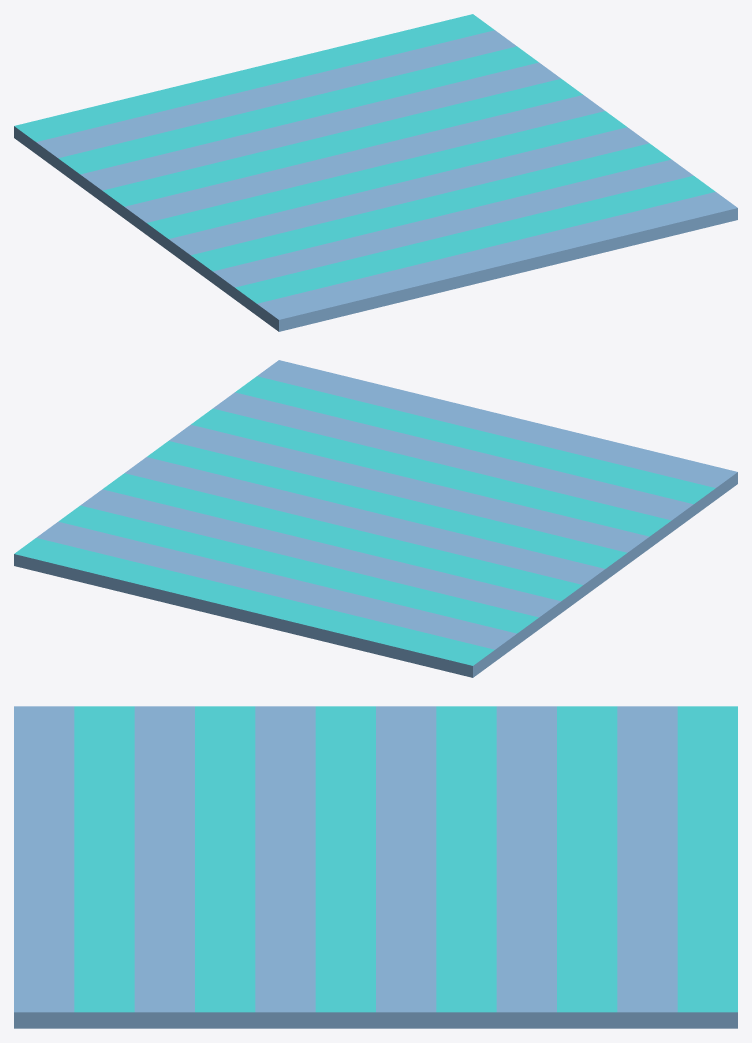
File: StageT1.fbx
The picture shows the model from 3 angles, top to bottom: view 1: azimuth 30°, elevation 25°; view 2: azimuth 150°, elevation 25°; view 3: azimuth 270°, elevation 25°; orthographic projection. The views are drawn at different scales.
Parts seen in each view (by area): view 1: 立方体; view 2: 立方体; view 3: 立方体.
Part boxes in pixels (x1,y1,x2,y2): 立方体: (14, 14, 737, 331); 立方体: (14, 360, 737, 677); 立方体: (14, 706, 737, 1028).
Bounding box in the file's own units: 40 × 1 × 40.
